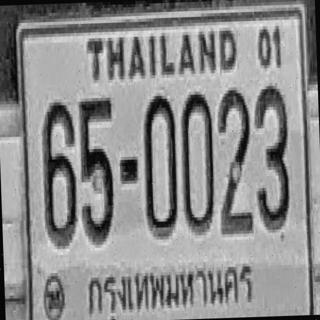N00: (142, 92, 178, 237), (180, 91, 215, 232)
N02: (216, 87, 253, 234)
N03: (253, 82, 292, 230)
N05: (78, 96, 116, 244)
N06: (41, 99, 78, 246)
P04: (83, 254, 258, 320)
